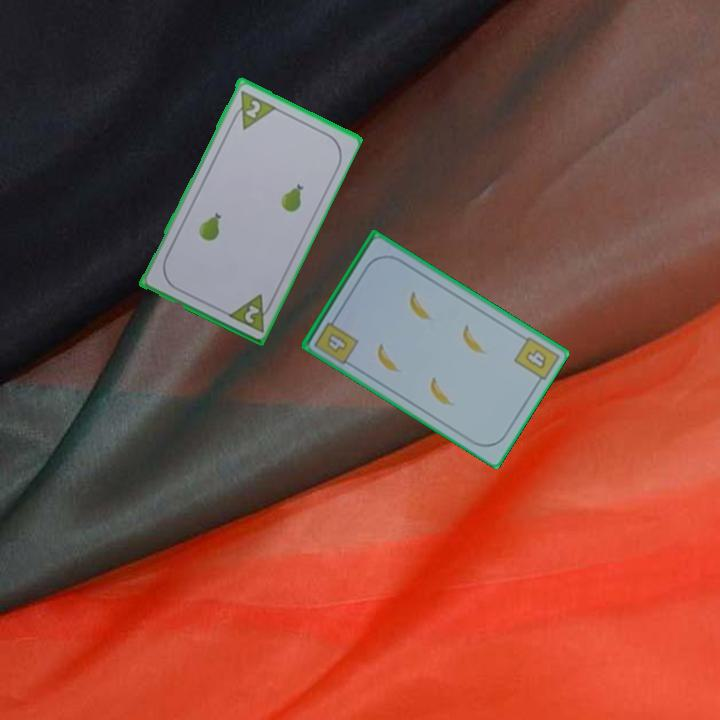2p: (223, 290, 277, 335), (227, 86, 278, 132)
4b: (311, 312, 361, 365), (522, 346, 550, 372)
